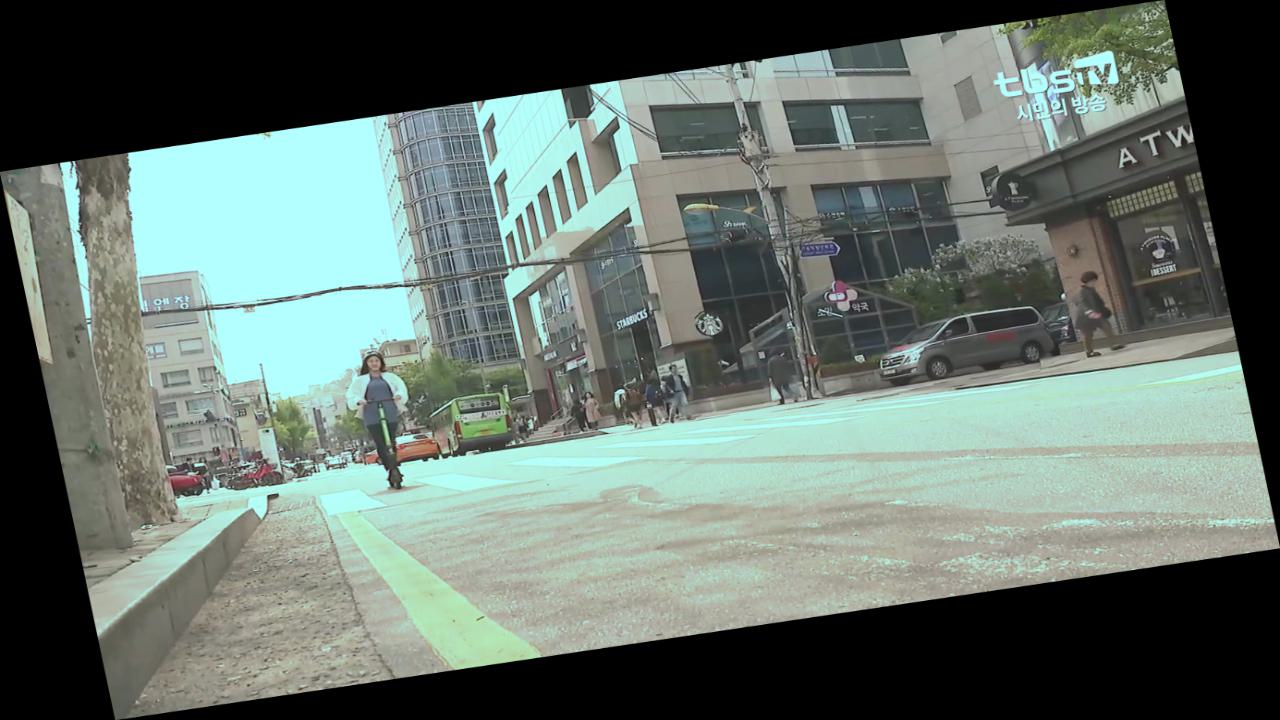helmet: (333, 344, 429, 497)
